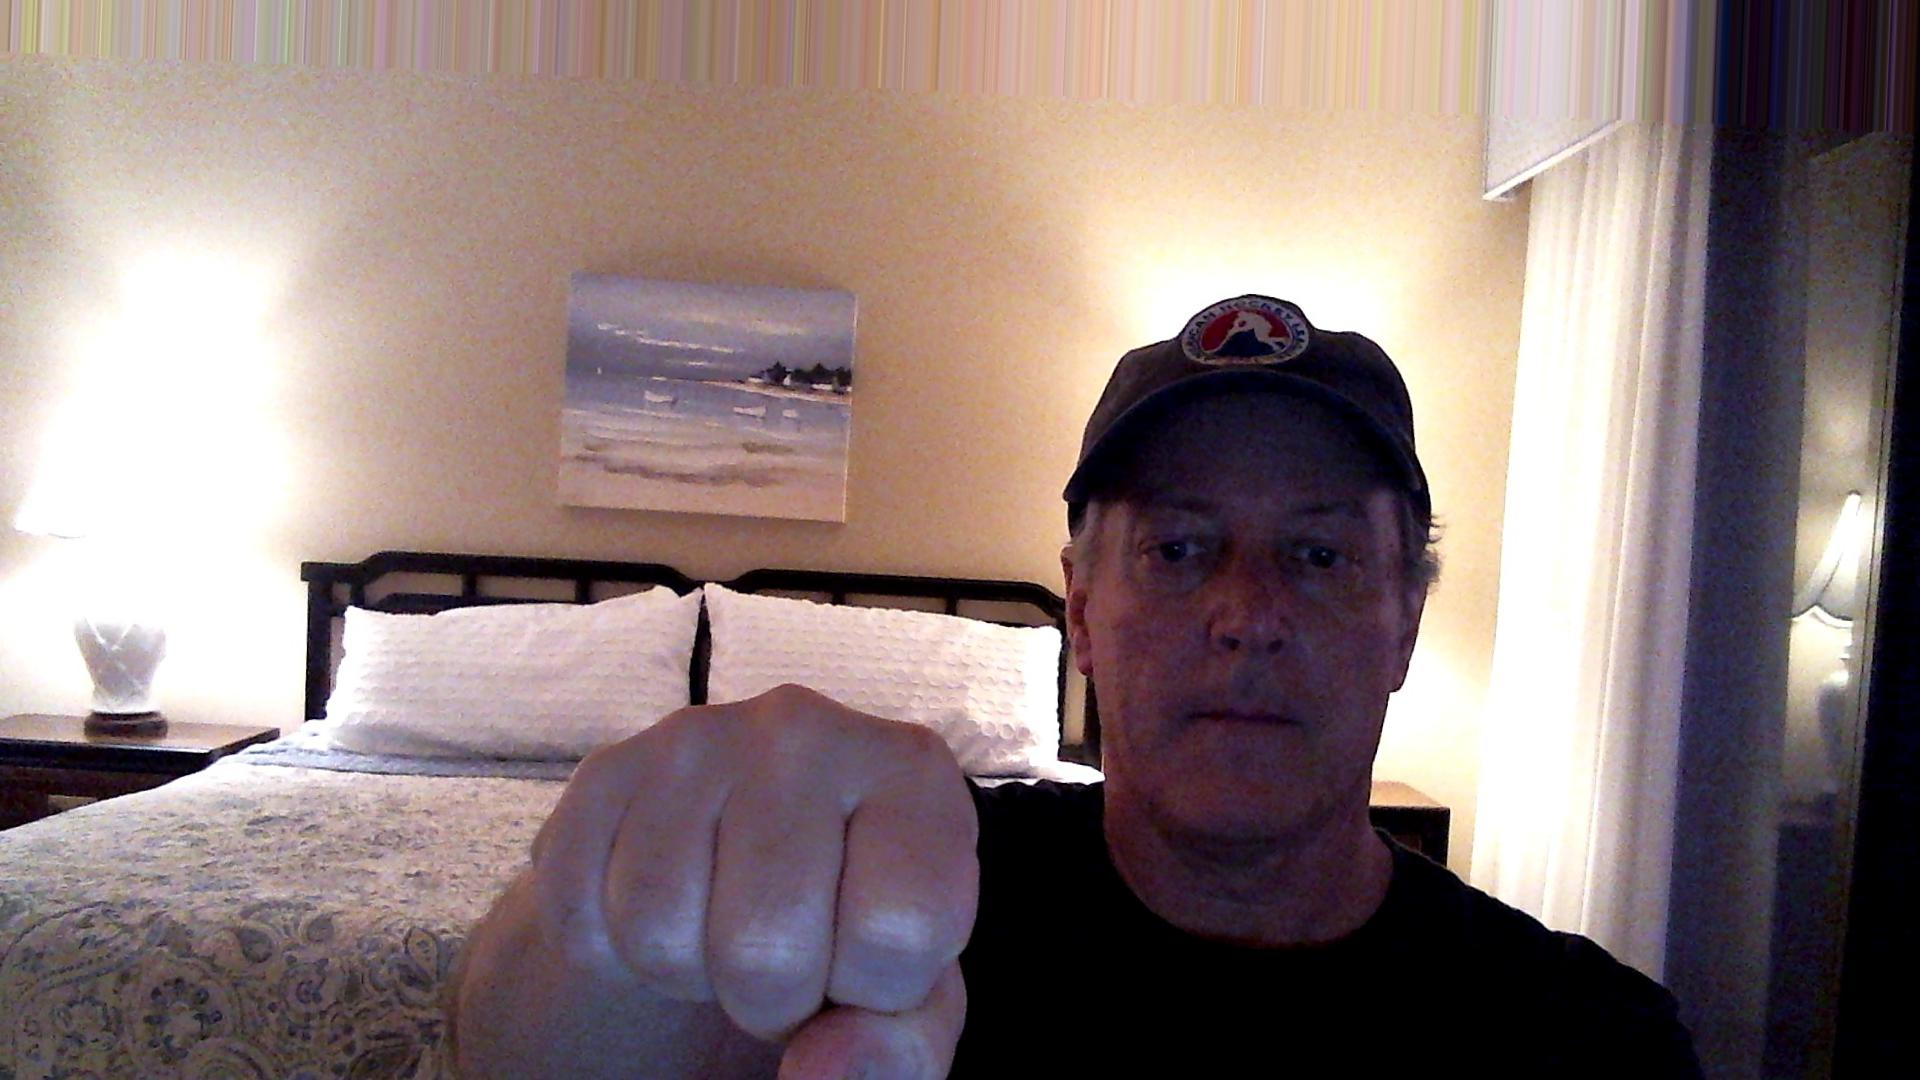Yes: (509, 666, 1029, 1080)
